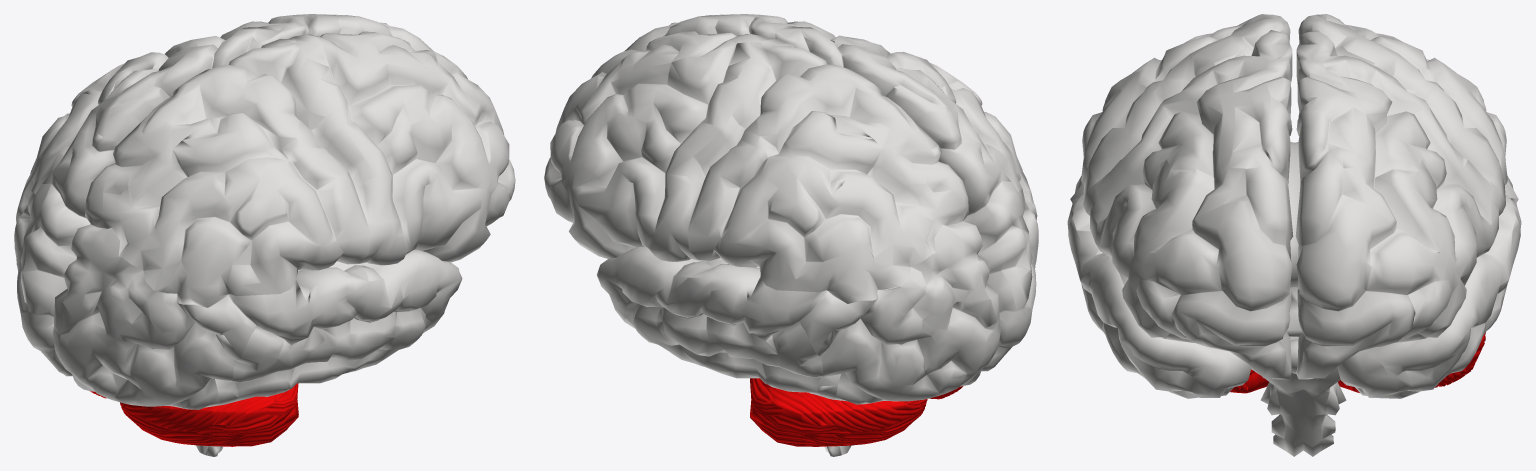
Rendered from brain.glb.
3 renders of one model, left to right at view 1: azimuth 30°, elevation 25°; view 2: azimuth 150°, elevation 25°; view 3: azimuth 270°, elevation 25°, orthographic. The views are drawn at different scales.
Visible parts, largest first — view 1: Material2 (×2); view 2: Material2 (×2); view 3: Material2 (×2).
Part boxes in pixels (<box>): Material2 (×2): <box>14,14,515,456</box>; Material2 (×2): <box>544,14,1038,456</box>; Material2 (×2): <box>1067,14,1521,456</box>.
Size of the model in its own units: 6.42 by 5.62 by 5.28.
